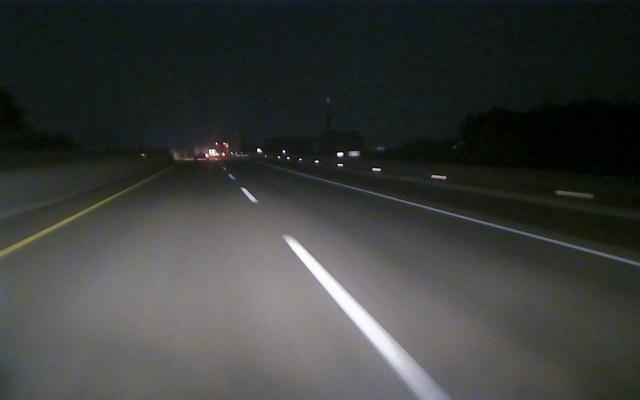lane: (240, 187, 446, 399), (339, 183, 638, 268), (1, 200, 106, 257)
